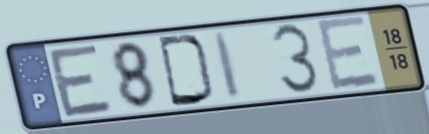3: (268, 21, 322, 98)
8: (109, 38, 160, 112)
D: (155, 33, 217, 109)
E: (44, 41, 118, 121), (313, 13, 384, 95)
I: (210, 28, 245, 102)
